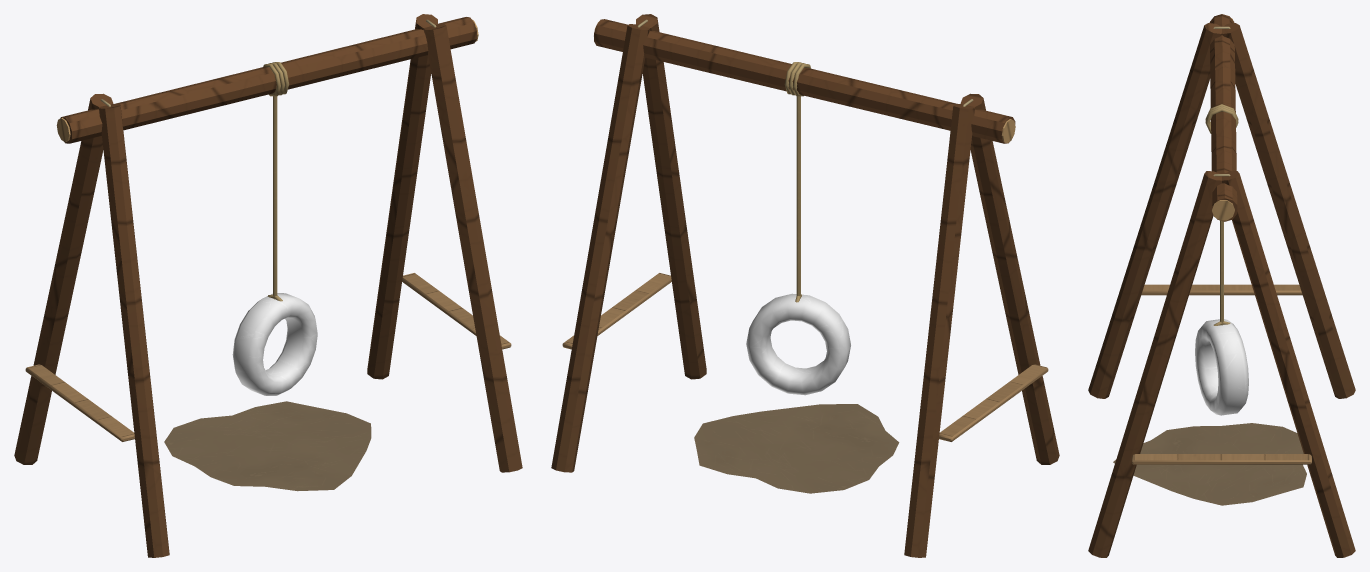
Rendered from tire_swing.glb.
The picture shows the model from 3 angles, left to right: view 1: azimuth 30°, elevation 25°; view 2: azimuth 150°, elevation 25°; view 3: azimuth 270°, elevation 25°; orthographic projection. The views are drawn at different scales.
Visible parts, largest first — view 1: tire_swing; view 2: tire_swing; view 3: tire_swing.
Boxes of the visible parts, x1,y1,x2,y2 form: tire_swing: (14,14,522,557); tire_swing: (551,14,1059,557); tire_swing: (1088,14,1355,557).
Bounding box in the file's own units: 3.02 × 2.86 × 1.84.
7 materials, 7 textured.
